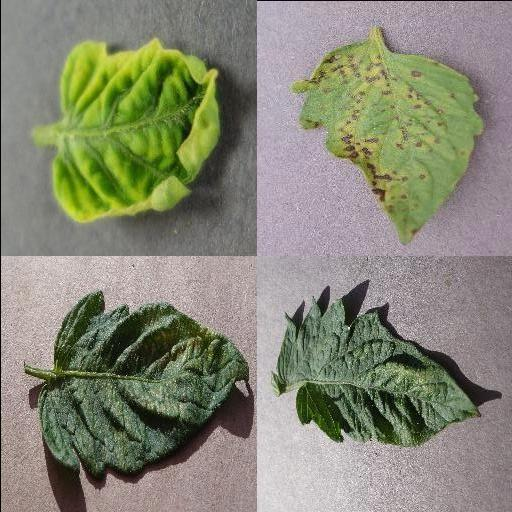Septoria: (288, 40, 480, 246)
Spider Mites: (37, 292, 249, 474), (275, 293, 479, 445)
Yellow Leaf Curl Virus: (49, 37, 219, 223)
